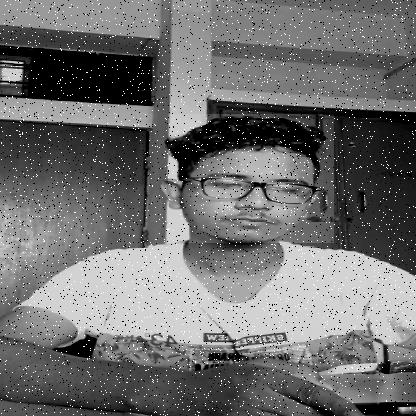Normal: (168, 114, 335, 243)
